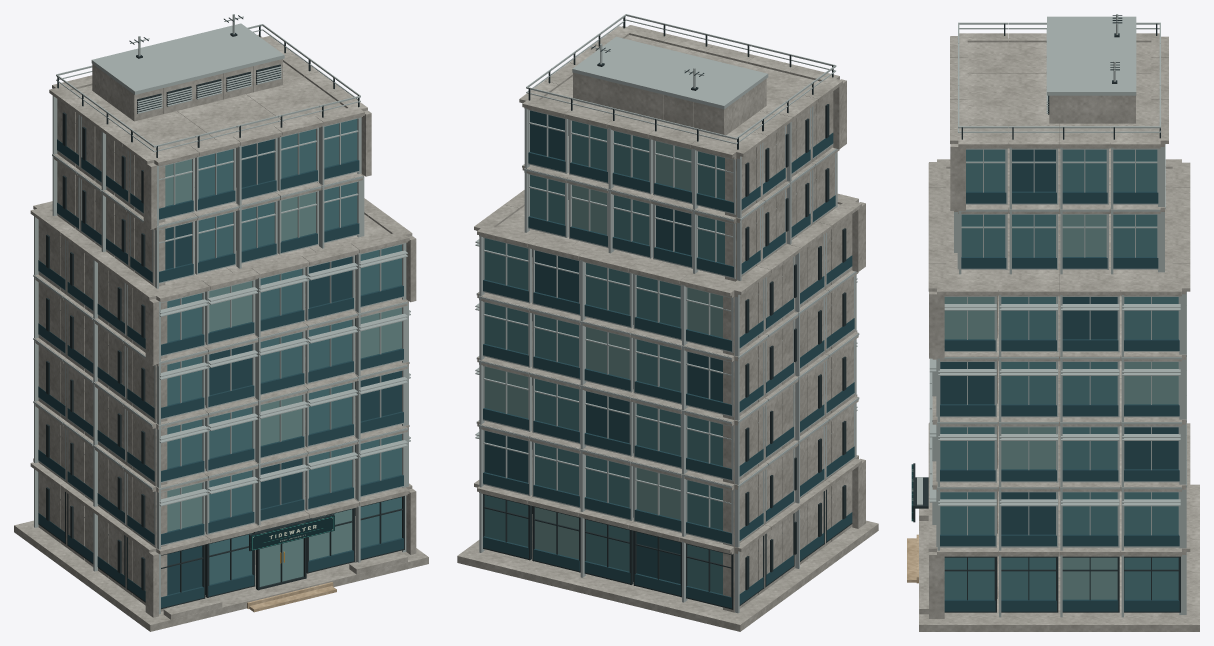
The model's file is Tidewater_Intact.glb.
3 views of the same model, side by side, from view 1: azimuth 30°, elevation 25°; view 2: azimuth 150°, elevation 25°; view 3: azimuth 270°, elevation 25° (orthographic). The views are drawn at different scales.
Parts seen in each view (by area): view 1: Tidewater_Geometry; view 2: Tidewater_Geometry; view 3: Tidewater_Geometry.
Boxes of the visible parts, x1,y1,x2,y2 form: Tidewater_Geometry: (14,14,428,631); Tidewater_Geometry: (457,14,878,631); Tidewater_Geometry: (907,14,1199,631).
Bounding box in the file's own units: 14.4 × 24.92 × 12.72.
11 materials, 4 textured.
